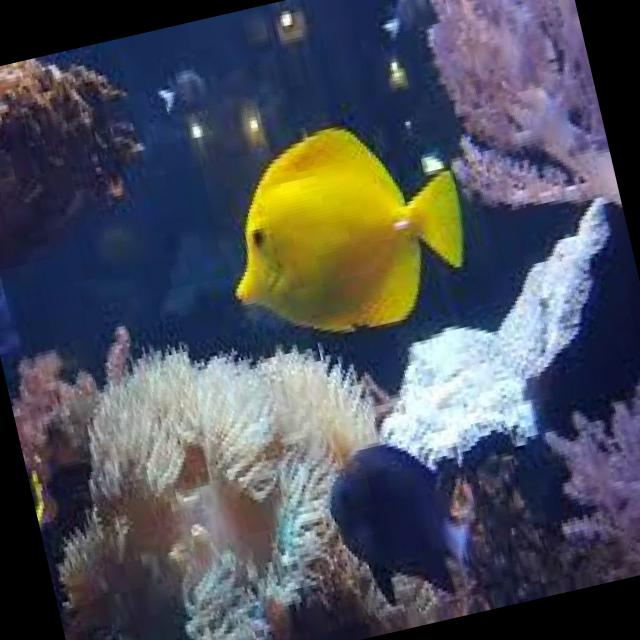YellowTang: (199, 88, 501, 380)
